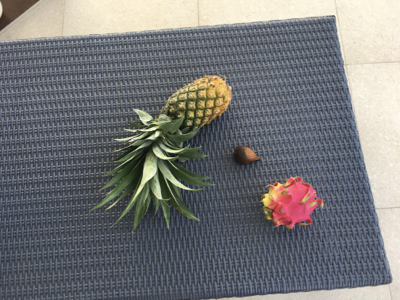dragon fruit: (263, 177, 323, 230)
pineapple: (92, 76, 232, 226)
snake fruit: (232, 144, 261, 165)
